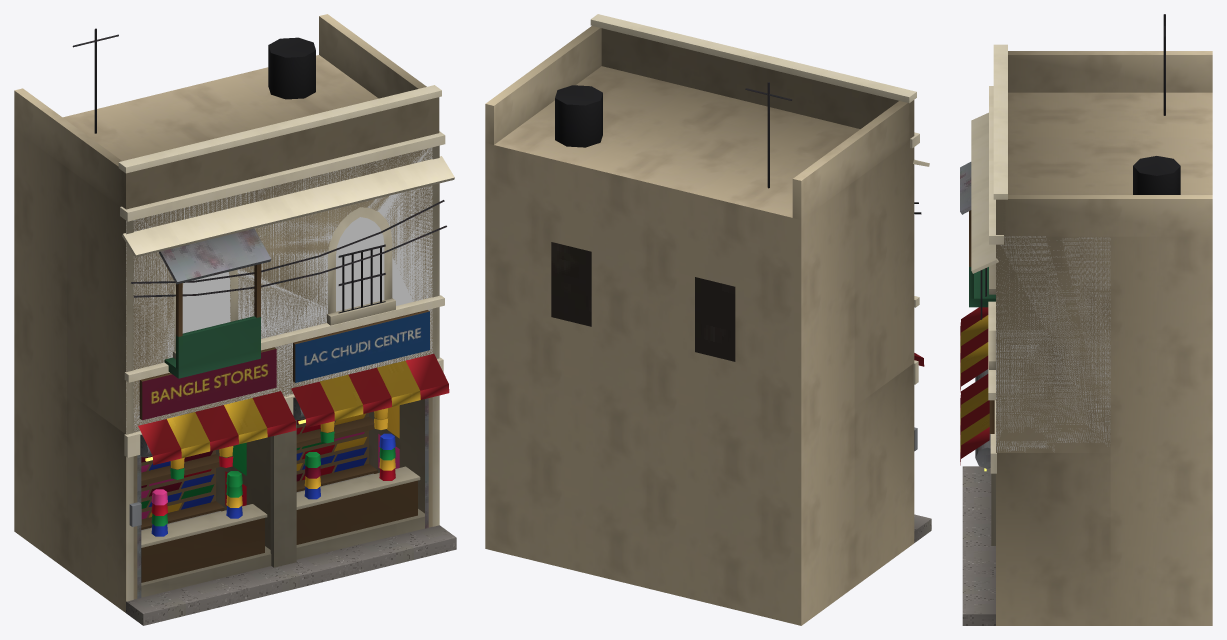
File: bangle_shop.glb
The picture shows the model from 3 angles, left to right: view 1: azimuth 30°, elevation 25°; view 2: azimuth 150°, elevation 25°; view 3: azimuth 270°, elevation 25°; orthographic projection. The views are drawn at different scales.
Parts seen in each view (by area): view 1: bangle_shop_body, COL_bangle_shop; view 2: bangle_shop_body; view 3: bangle_shop_body, COL_bangle_shop.
Boxes of the visible parts, x1,y1,x2,y2 form: bangle_shop_body: [14, 14, 456, 625]; COL_bangle_shop: [126, 147, 432, 431]; bangle_shop_body: [485, 14, 931, 625]; bangle_shop_body: [960, 14, 1212, 625]; COL_bangle_shop: [996, 236, 1110, 451].
Size of the model in its own units: 22.4 by 34 by 15.88.
Materials: 24 (24 with a texture image).
